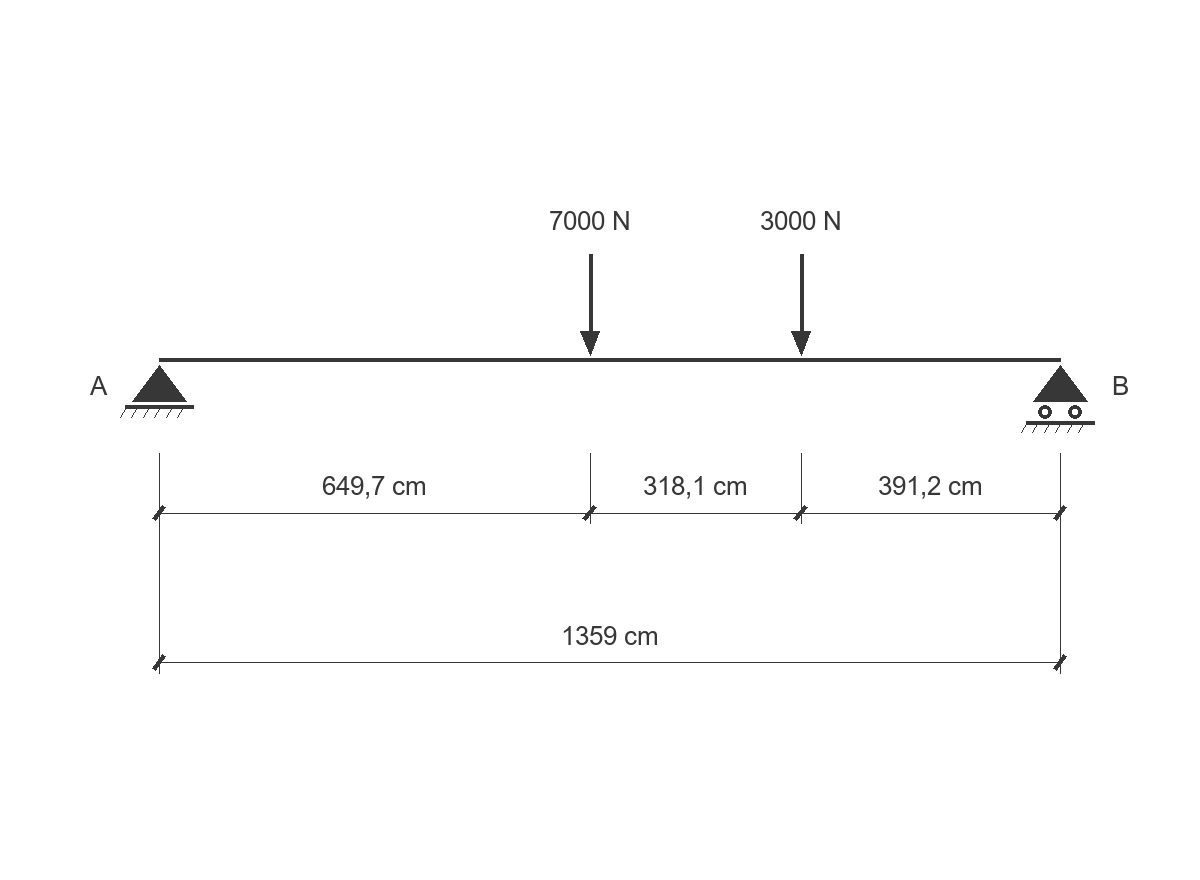pin_support: (120, 365, 194, 418)
point_load: (580, 254, 600, 356), (791, 254, 811, 356)
roller_support: (1021, 365, 1095, 433)
